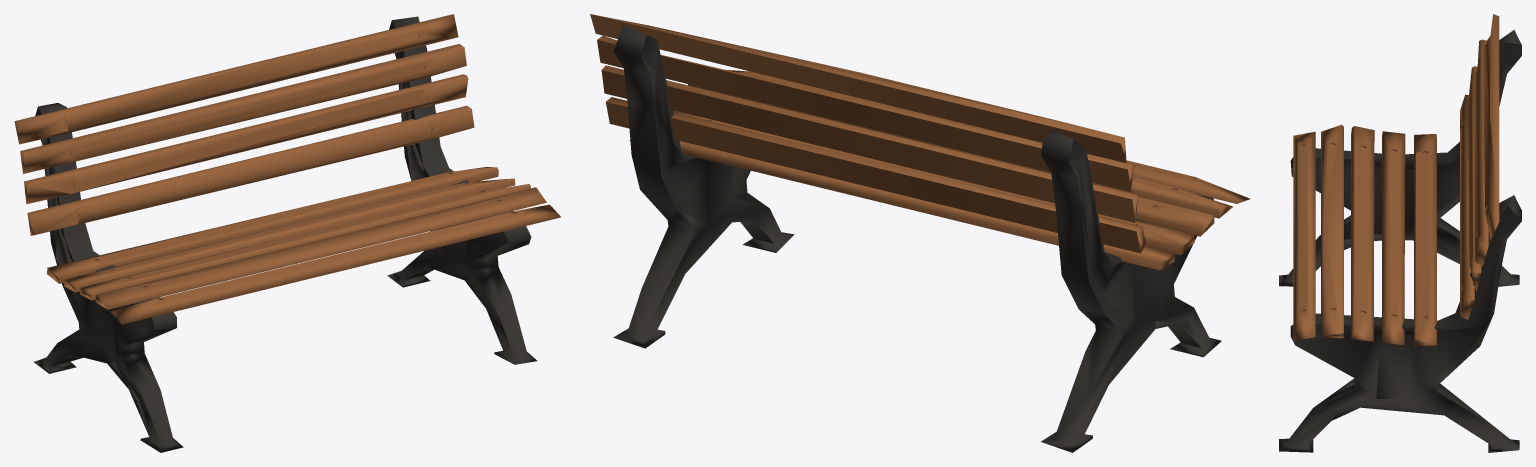
File: bench-0-far.glb
3 renders of one model, left to right at view 1: azimuth 30°, elevation 25°; view 2: azimuth 150°, elevation 25°; view 3: azimuth 270°, elevation 25°, orthographic. The views are drawn at different scales.
Visible parts, largest first — view 1: Polygon_Wood_0, threads_2_Thread_0; view 2: Polygon_Wood_0, threads_2_Thread_0; view 3: Polygon_Wood_0, threads_2_Thread_0.
Part boxes in pixels (left/top/right/bottom): Polygon_Wood_0: left=14, top=14, right=560, bottom=324; threads_2_Thread_0: left=34, top=16, right=536, bottom=452; Polygon_Wood_0: left=590, top=14, right=1250, bottom=270; threads_2_Thread_0: left=613, top=25, right=1221, bottom=452; Polygon_Wood_0: left=1293, top=14, right=1499, bottom=346; threads_2_Thread_0: left=1279, top=30, right=1521, bottom=452.
Bounding box in the file's own units: 1.69 × 0.9466 × 0.8428.
